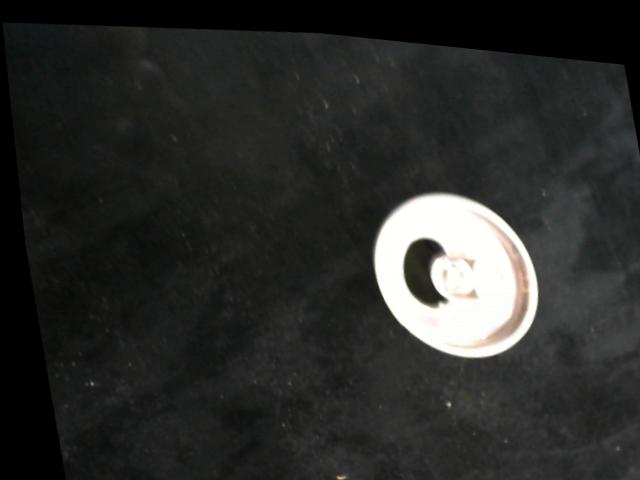can: (355, 169, 547, 363)
